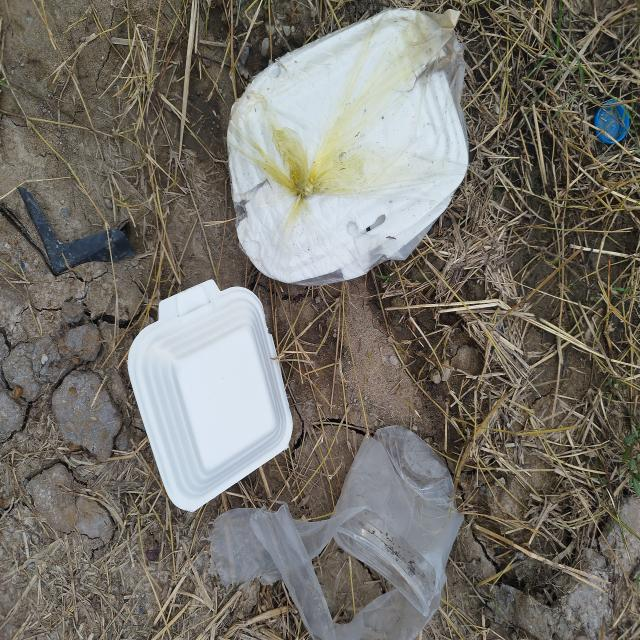bag: (210, 423, 465, 640)
foam box: (230, 10, 470, 282), (127, 277, 296, 511)
